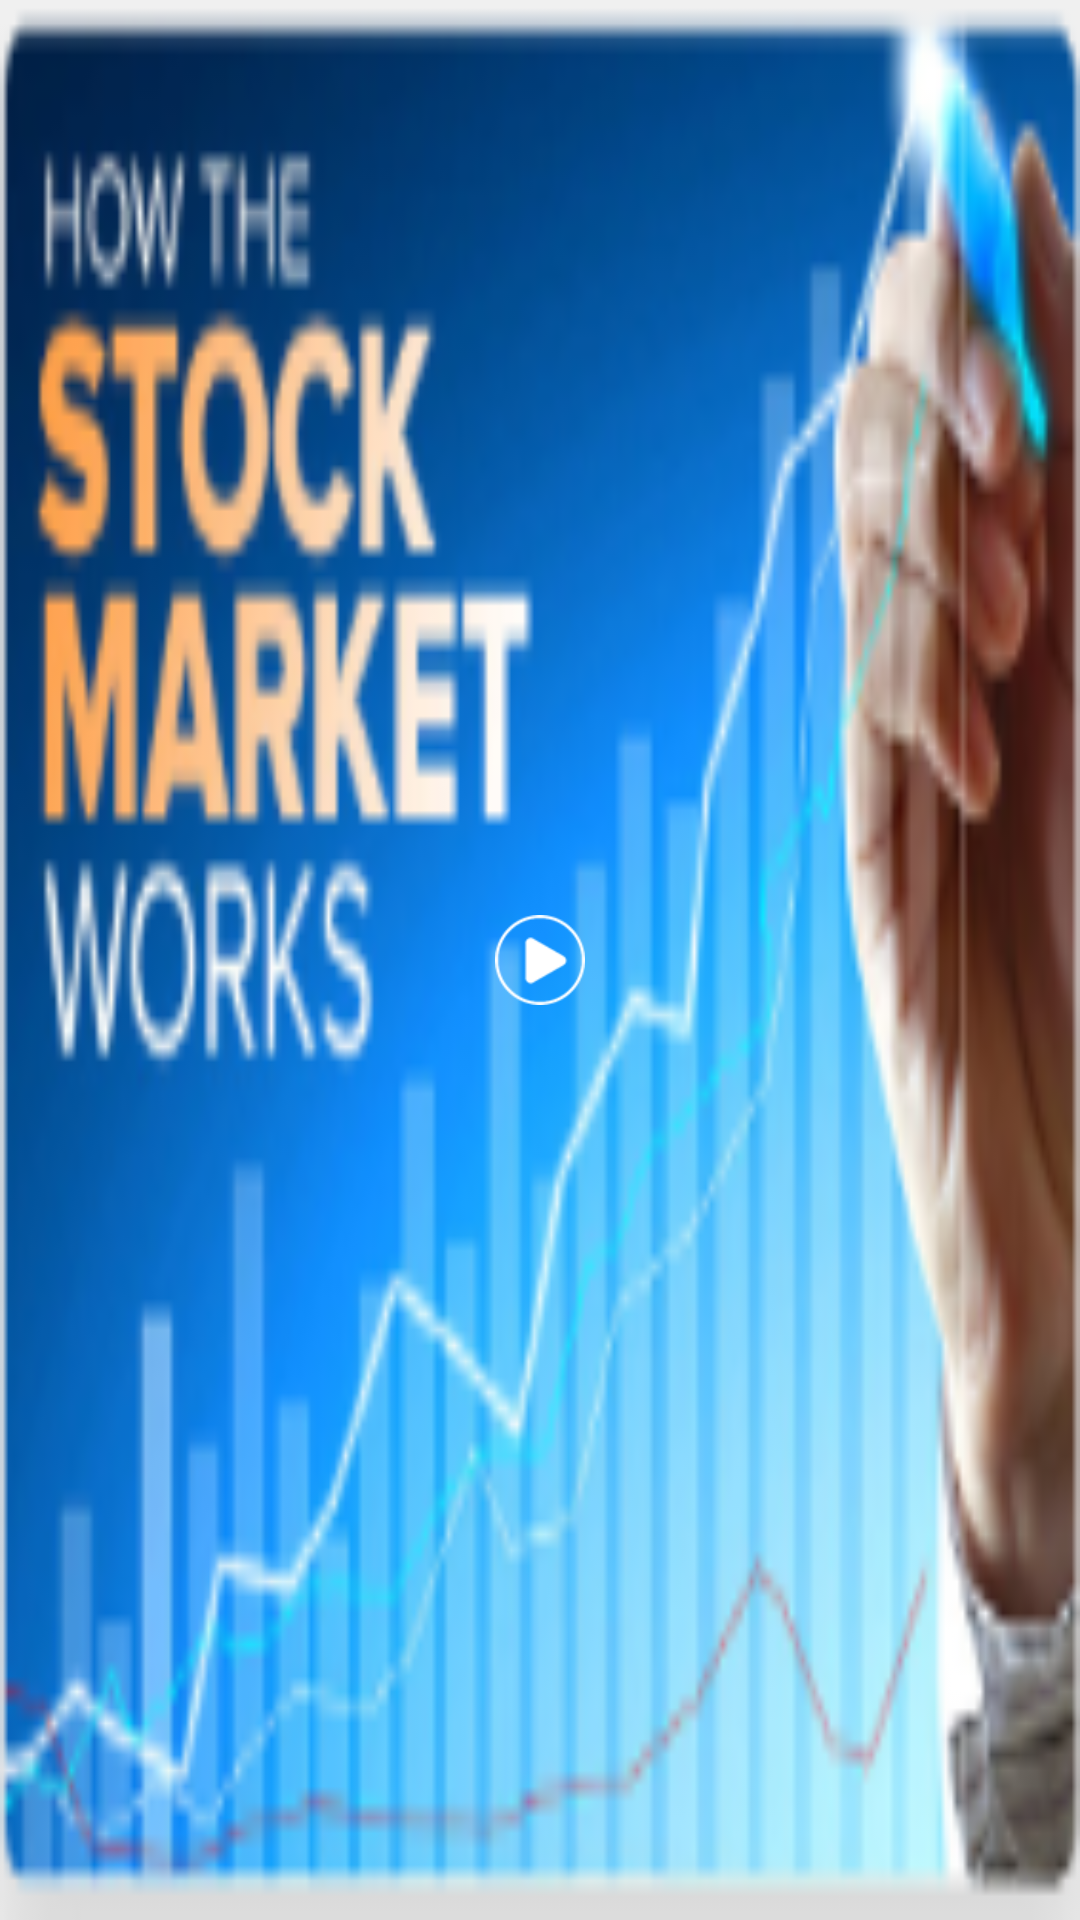

Where to tap for icons on this 1080×1920 app screen, as (x,y):
playicon: (540,960)
